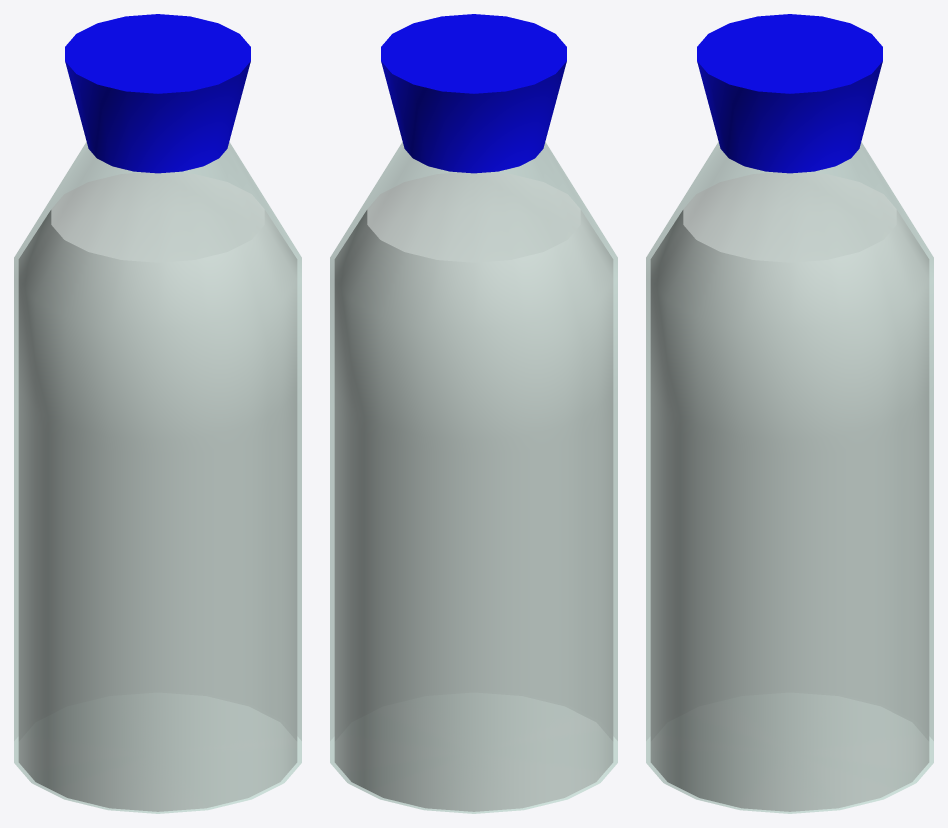
File: Anethesia Cart - Bottle Blue.FBX
3 renders of one model, left to right at view 1: azimuth 30°, elevation 25°; view 2: azimuth 150°, elevation 25°; view 3: azimuth 270°, elevation 25°, orthographic.
Visible parts, largest first — view 1: BottleBlue004; view 2: BottleBlue004; view 3: BottleBlue004.
Boxes of the visible parts, x1,y1,x2,y2 form: BottleBlue004: (14, 14, 301, 813); BottleBlue004: (330, 14, 617, 813); BottleBlue004: (646, 14, 933, 813).
Size of the model in its own units: 4.8 by 12.65 by 4.73.
